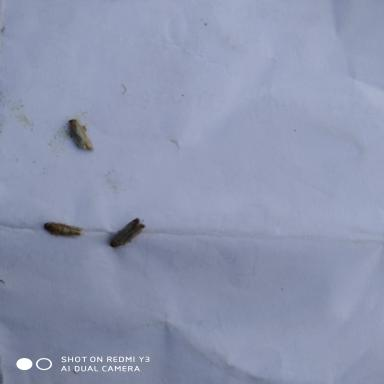pbw: (104, 214, 149, 252), (66, 117, 100, 153), (42, 222, 87, 240)
